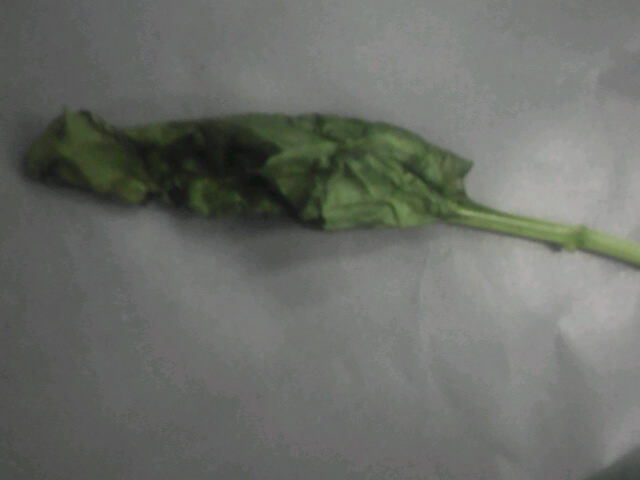yellow: (12, 95, 530, 254)
